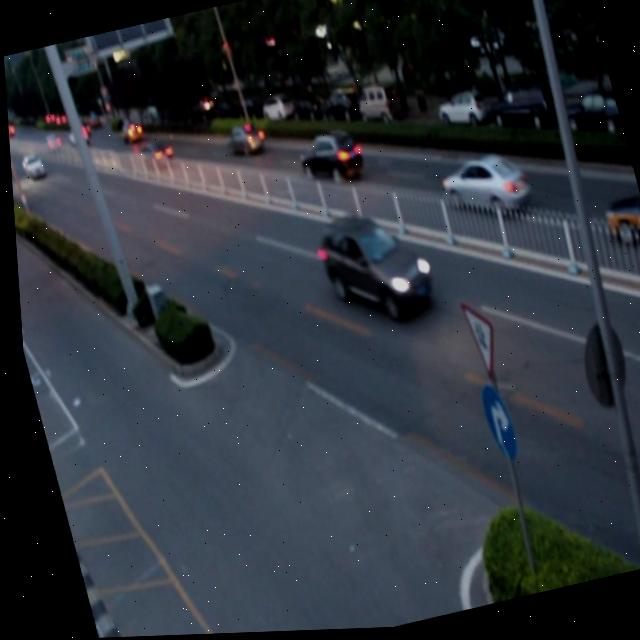car: (311, 205, 432, 331), (435, 151, 530, 230), (295, 132, 362, 190), (600, 194, 640, 263), (221, 121, 268, 163), (134, 140, 176, 178)
